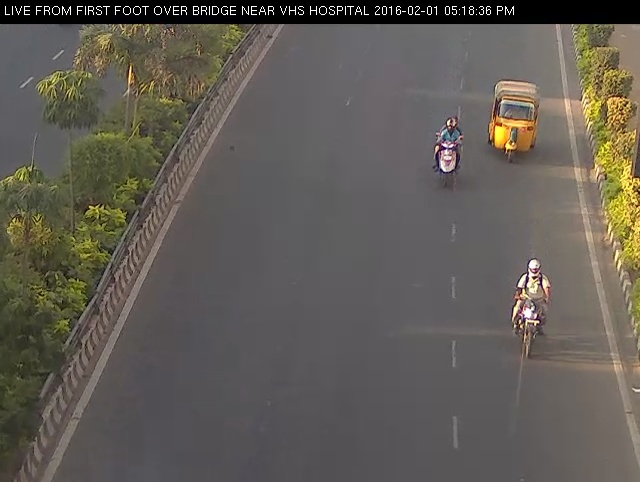Car: (483, 70, 547, 172)
Person: (502, 240, 563, 365), (426, 109, 469, 196)
